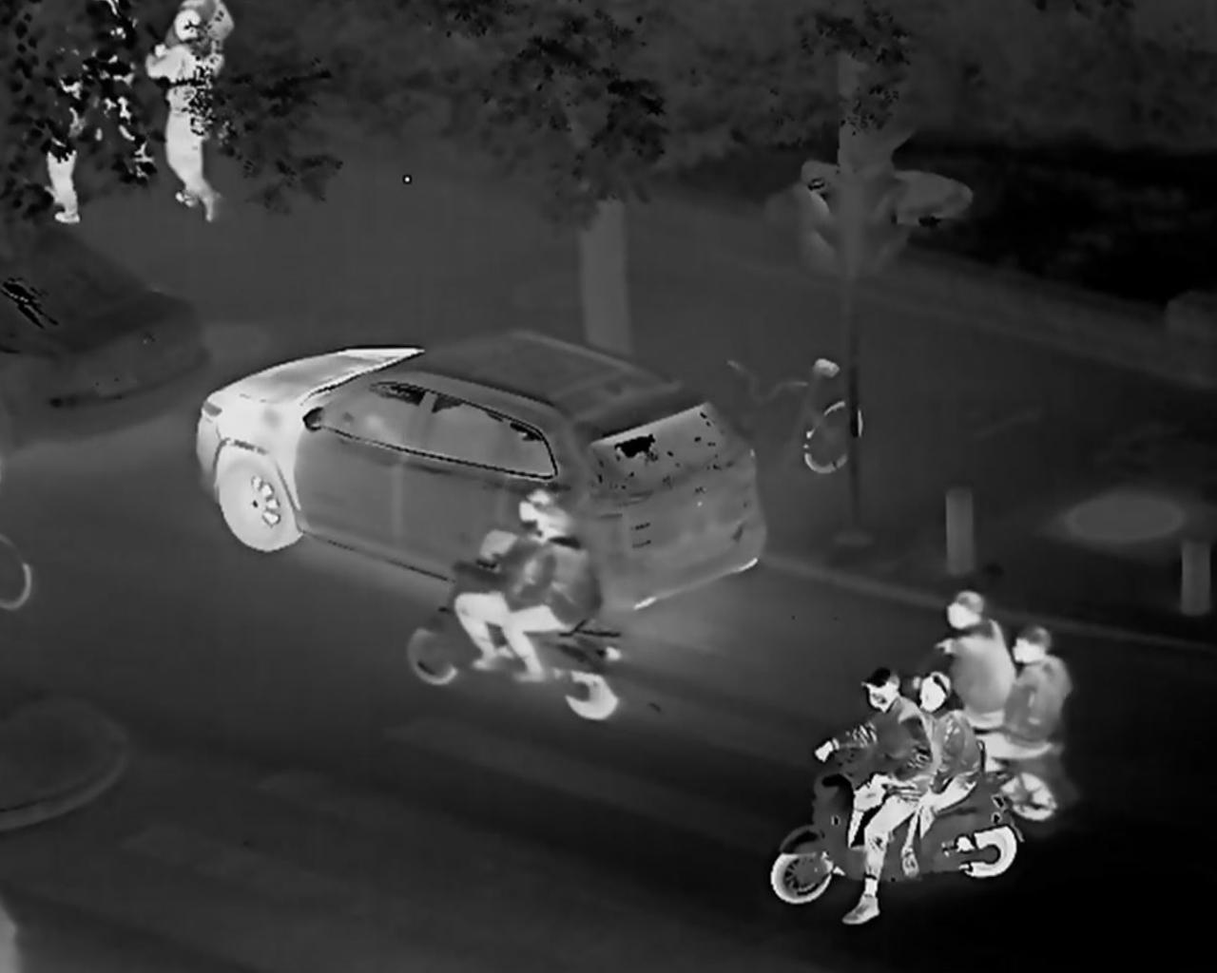person: (796, 660, 932, 926), (454, 487, 557, 682), (144, 11, 229, 229), (502, 505, 602, 681), (898, 669, 978, 885), (972, 623, 1075, 789), (932, 583, 1009, 771), (24, 29, 88, 230)
